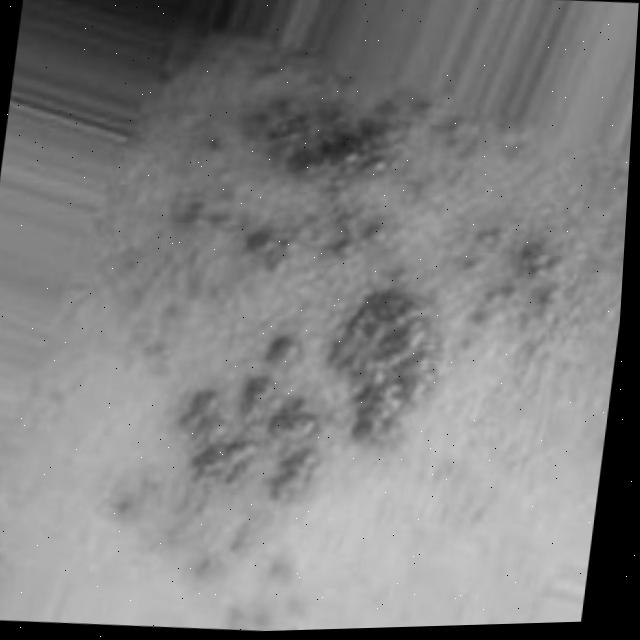Shingles: (103, 104, 589, 605)
